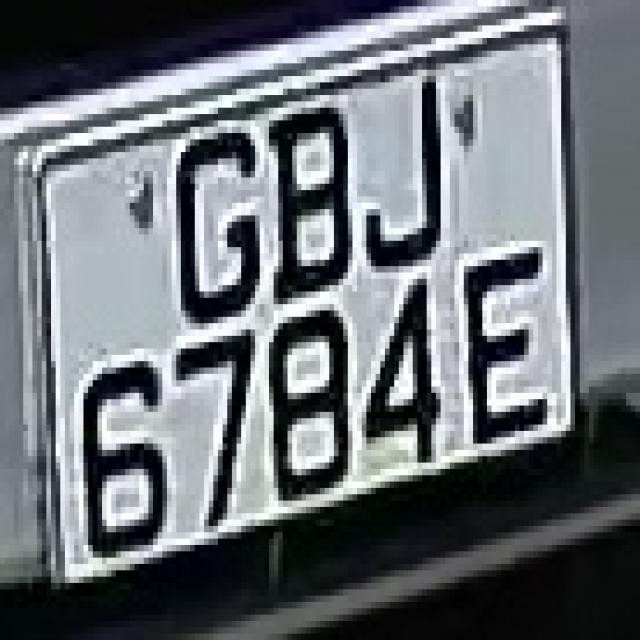4: (348, 254, 454, 476)
6: (74, 342, 176, 577)
7: (176, 304, 269, 551)
8: (260, 272, 366, 520)
B: (274, 88, 366, 310)
E: (454, 234, 556, 450)
G: (176, 102, 269, 330)
J: (366, 32, 459, 266)
